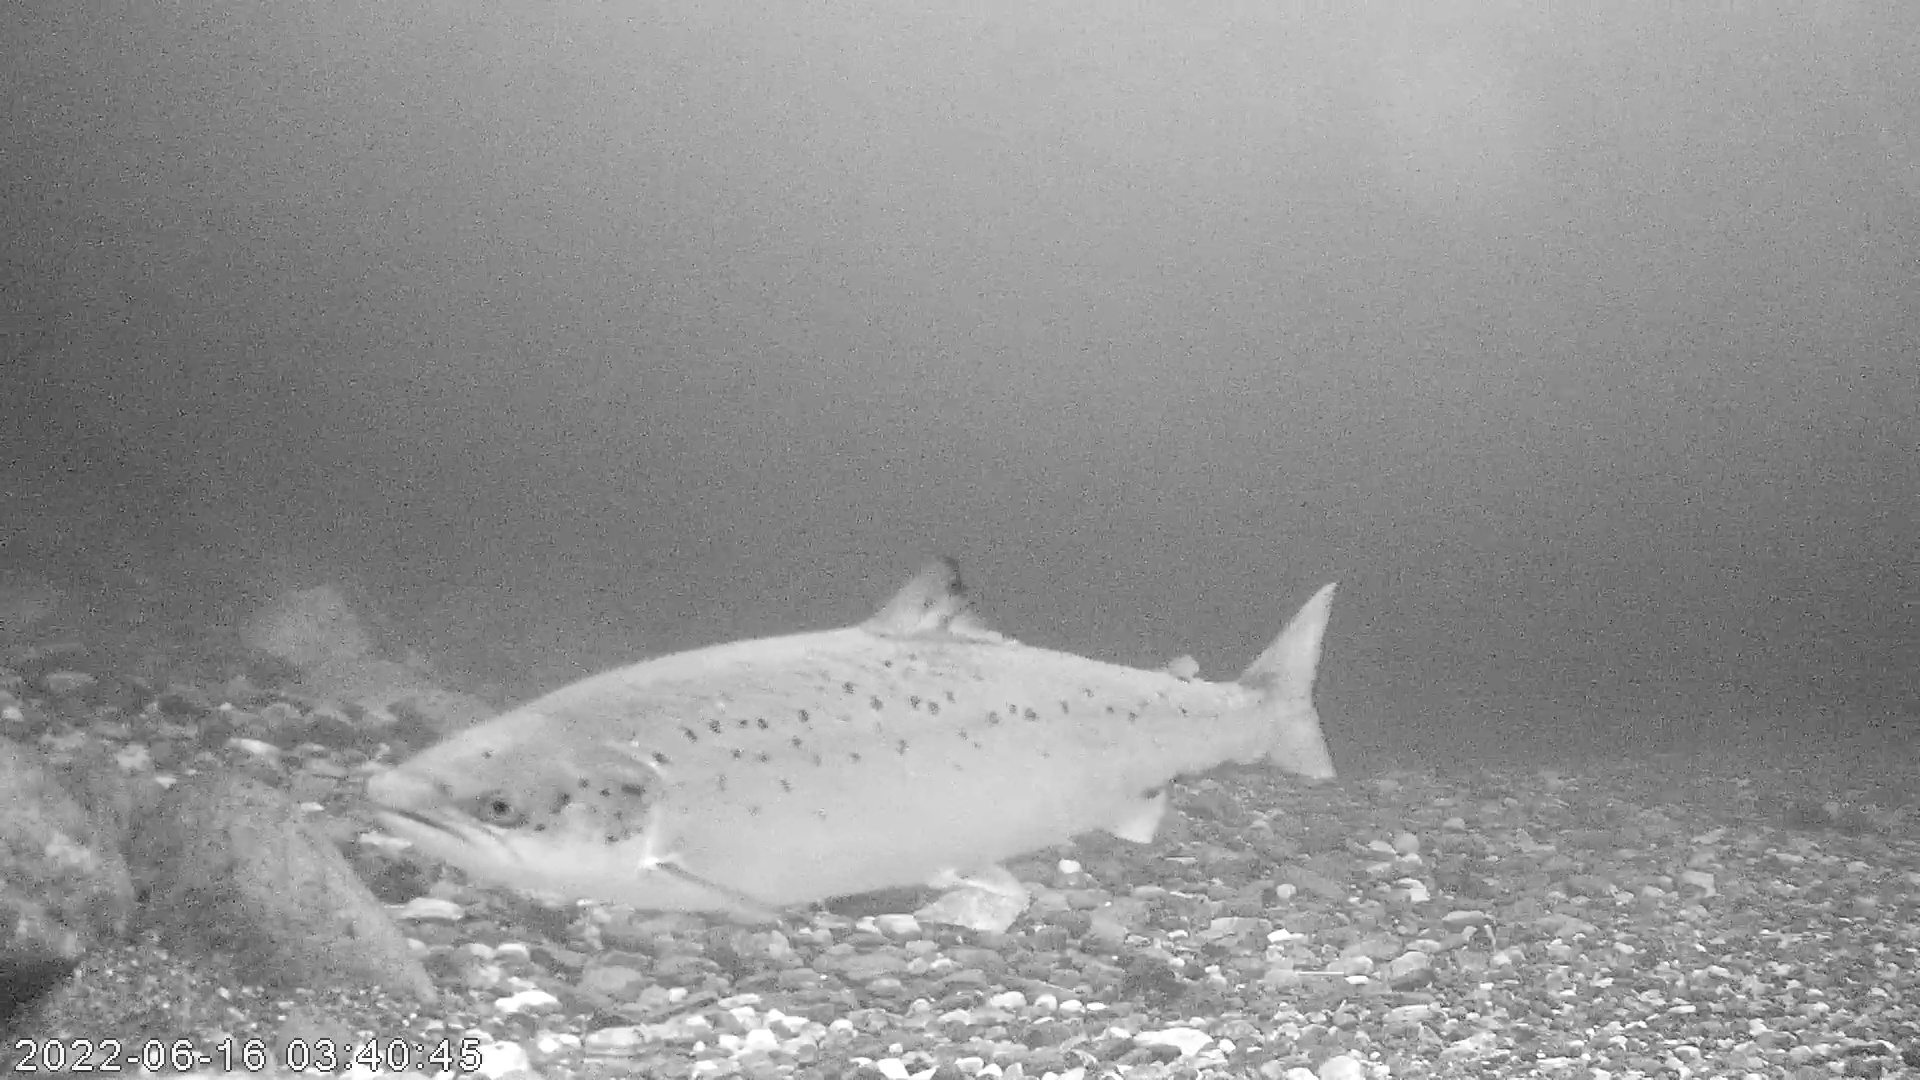salmon: (364, 549, 1341, 918)
